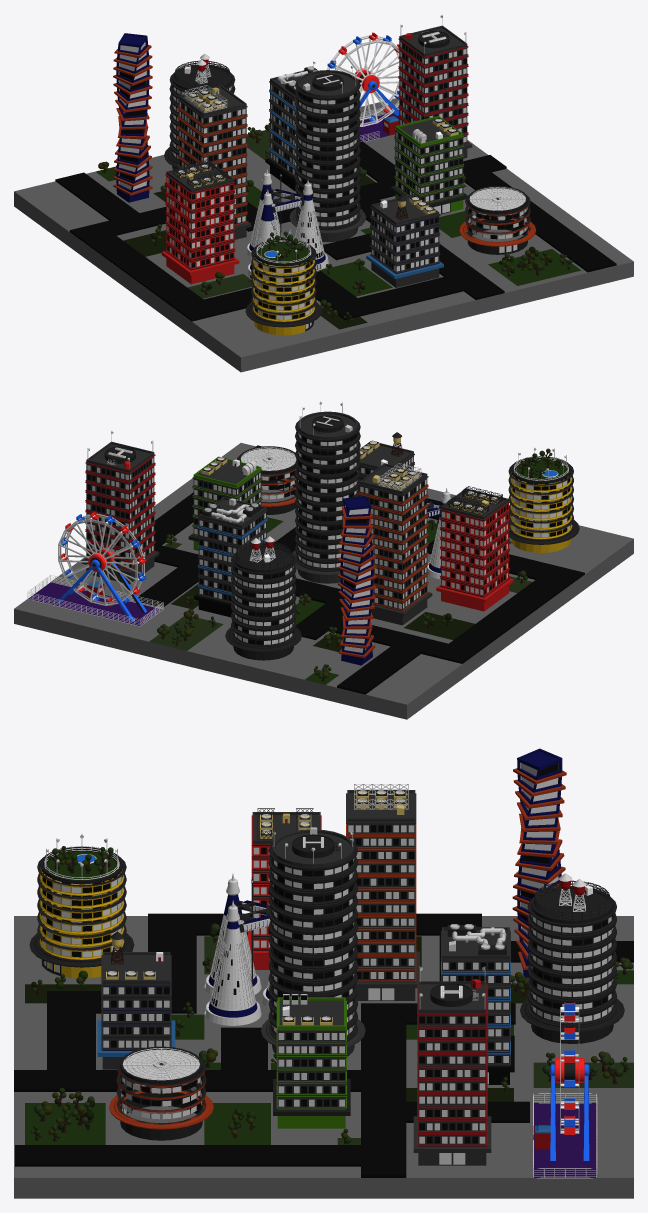
Rendered from city.obj.
3 renders of one model, top to bottom at view 1: azimuth 30°, elevation 25°; view 2: azimuth 150°, elevation 25°; view 3: azimuth 270°, elevation 25°, orthographic. The views are drawn at different scales.
Visible parts, largest first — view 1: CityBase_Plane, CityBase.001_Plane.002, CircleBuildFloors.001_Circle.004, Cube.001_Cube.038, SquareBuildFloors.004_Cube.047, SquareBuildFloors.007_Cube.006, SquareBuildFloors.002_Cube.041, SquareBuildFloors.003_Cube.044, CircleBuildFloors.003_Circle.003, SquareBuildFloors.005_Cube.050, Cone.002_Cone.003, SquareBuildFloors.006_Cube.053 (+23 smaller); view 2: CityBase_Plane, CityBase.001_Plane.002, CircleBuildFloors.001_Circle.004, SquareBuildFloors.002_Cube.041, SquareBuildFloors.007_Cube.006, SquareBuildFloors.004_Cube.047, Cube.001_Cube.038, CircleBuildFloors.004_Circle.001, CircleBuildFloors.003_Circle.003, SquareBuildFloors.006_Cube.053, FerrisMainWheel_Cylinder.001, SquareBuildFloors.003_Cube.044 (+27 smaller); view 3: CityBase_Plane, CityBase.001_Plane.002, CircleBuildFloors.001_Circle.004, SquareBuildFloors.002_Cube.041, SquareBuildFloors.007_Cube.006, CircleBuildFloors.004_Circle.001, Cube.001_Cube.038, CircleBuildFloors.003_Circle.003, Cone.002_Cone.003, SquareBuildFloors.003_Cube.044, SquareBuildFloors.005_Cube.050, SquareBuildFloors.006_Cube.053 (+28 smaller).
Part boxes in pixels (x1,y1,x2,y2): CityBase_Plane: [14, 98, 633, 372]; CityBase.001_Plane.002: [55, 141, 616, 321]; CircleBuildFloors.001_Circle.004: [295, 78, 360, 230]; Cube.001_Cube.038: [113, 33, 152, 202]; SquareBuildFloors.004_Cube.047: [165, 174, 235, 270]; SquareBuildFloors.007_Cube.006: [398, 38, 468, 144]; SquareBuildFloors.002_Cube.041: [177, 98, 247, 226]; SquareBuildFloors.003_Cube.044: [394, 129, 464, 203]; CircleBuildFloors.003_Circle.003: [251, 247, 316, 323]; SquareBuildFloors.005_Cube.050: [370, 207, 440, 274]; Cone.002_Cone.003: [246, 169, 328, 276]; SquareBuildFloors.006_Cube.053: [269, 81, 296, 177]; CityBase_Plane: [14, 443, 633, 719]; CityBase.001_Plane.002: [134, 445, 584, 694]; CircleBuildFloors.001_Circle.004: [295, 420, 360, 571]; SquareBuildFloors.002_Cube.041: [358, 476, 428, 611]; SquareBuildFloors.007_Cube.006: [85, 454, 155, 570]; SquareBuildFloors.004_Cube.047: [440, 501, 509, 597]; Cube.001_Cube.038: [337, 496, 376, 665]; CircleBuildFloors.004_Circle.001: [231, 553, 296, 648]; CircleBuildFloors.003_Circle.003: [508, 464, 573, 541]; SquareBuildFloors.006_Cube.053: [197, 510, 267, 603]; FerrisMainWheel_Cylinder.001: [58, 513, 144, 605]; SquareBuildFloors.003_Cube.044: [192, 469, 262, 536]; CityBase_Plane: [14, 916, 633, 1198]; CityBase.001_Plane.002: [14, 913, 633, 1177]; CircleBuildFloors.001_Circle.004: [268, 840, 357, 1041]; SquareBuildFloors.002_Cube.041: [346, 793, 416, 982]; SquareBuildFloors.007_Cube.006: [417, 984, 487, 1146]; CircleBuildFloors.004_Circle.001: [527, 897, 616, 1027]; Cube.001_Cube.038: [512, 748, 566, 977]; CircleBuildFloors.003_Circle.003: [37, 857, 126, 962]; Cone.002_Cone.003: [204, 873, 270, 1025]; SquareBuildFloors.003_Cube.044: [276, 1000, 346, 1109]; SquareBuildFloors.005_Cube.050: [101, 955, 171, 1050]; SquareBuildFloors.006_Cube.053: [441, 930, 510, 1066].
Bounding box in the file's own units: 9.8 × 4.11 × 9.79.
